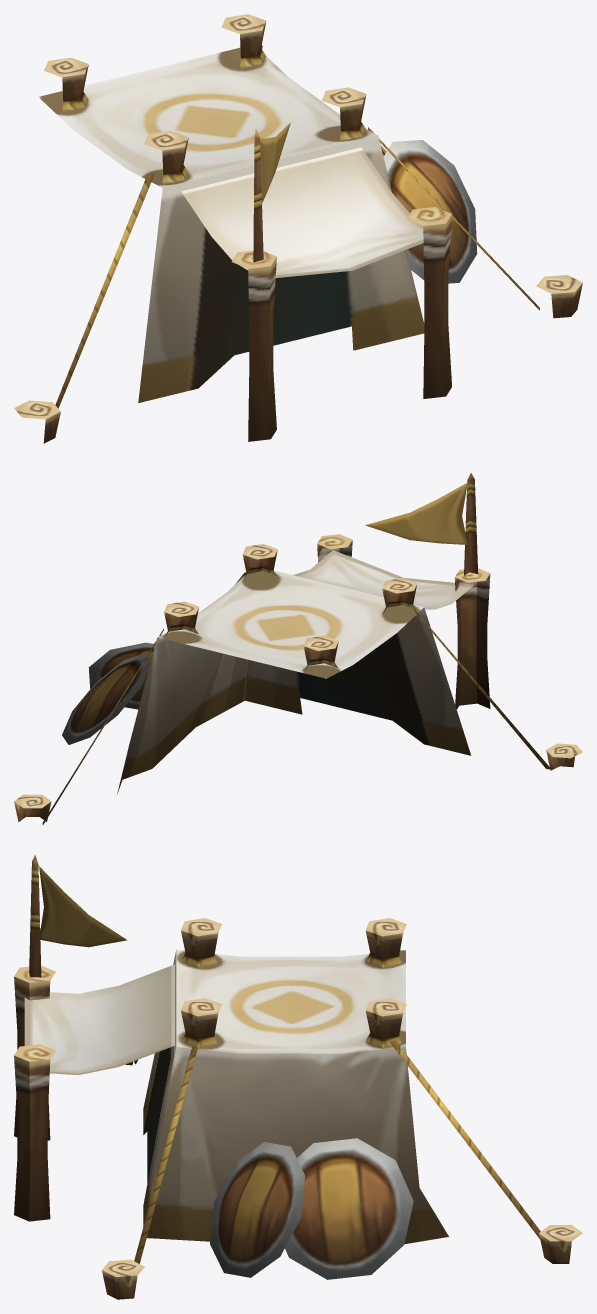
Rendered from B_AssemblyArea01.fbx.
3 renders of one model, top to bottom at view 1: azimuth 30°, elevation 25°; view 2: azimuth 150°, elevation 25°; view 3: azimuth 270°, elevation 25°, orthographic. The views are drawn at different scales.
Parts seen in each view (by area): view 1: B_AssemblyArea01_01; view 2: B_AssemblyArea01_01; view 3: B_AssemblyArea01_01.
Part boxes in pixels (x1,y1,x2,y2): B_AssemblyArea01_01: (14,14,582,443); B_AssemblyArea01_01: (14,473,582,824); B_AssemblyArea01_01: (14,855,582,1299).
Size of the model in its own units: 6.14 by 3.21 by 5.86.
1 material, 1 textured.
